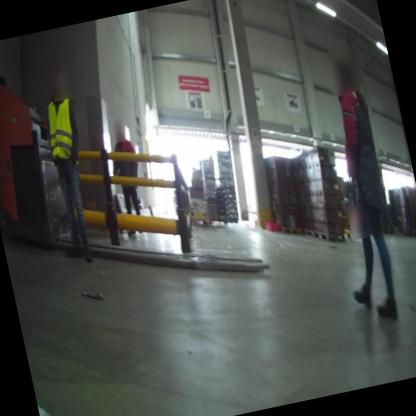pallet: (313, 222, 345, 247), (276, 221, 301, 241), (379, 224, 398, 241), (298, 222, 313, 241), (408, 222, 416, 238)
pallet_truck: (0, 24, 272, 325)
small_load_carrier: (262, 218, 280, 234)
